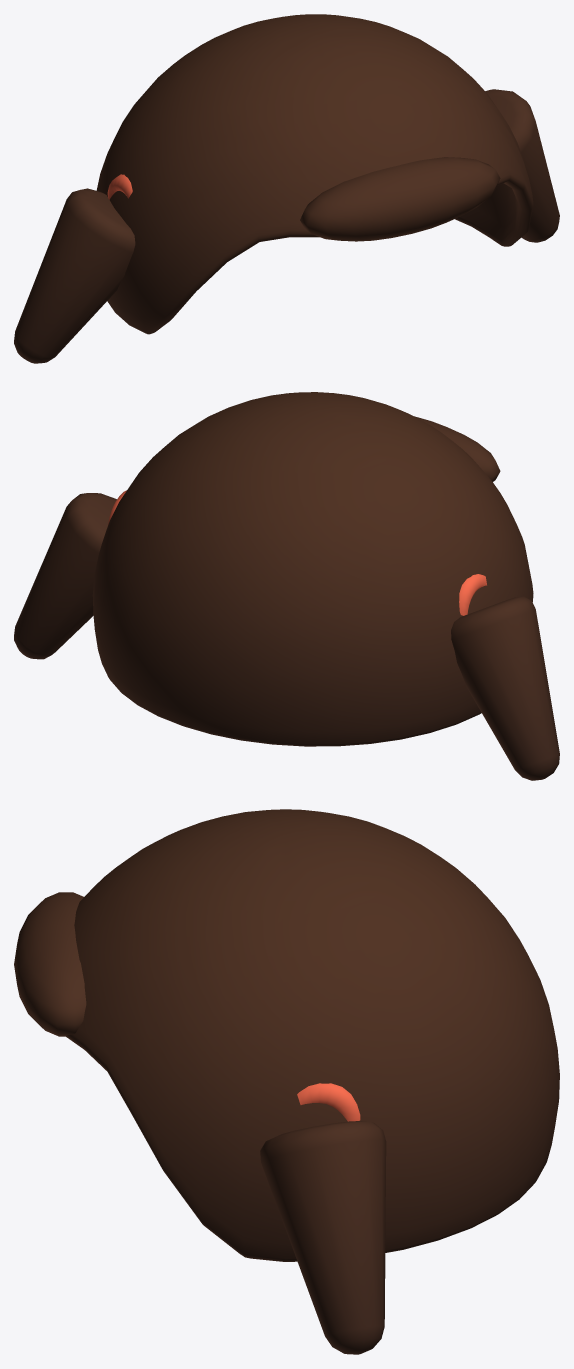
The model's file is hair_pigtails.glb.
The picture shows the model from 3 angles, top to bottom: view 1: azimuth 30°, elevation 25°; view 2: azimuth 150°, elevation 25°; view 3: azimuth 270°, elevation 25°; orthographic projection. The views are drawn at different scales.
Parts seen in each view (by area): view 1: Hair, HairTailR, HairTailL; view 2: Hair, HairTailR, HairTailL; view 3: Hair, HairTailL.
Part boxes in pixels (x1,y1,x2,y2): Hair: [96, 14, 533, 334]; HairTailR: [14, 188, 135, 363]; HairTailL: [485, 89, 559, 242]; Hair: [92, 392, 533, 746]; HairTailR: [451, 596, 559, 780]; HairTailL: [14, 493, 116, 659]; Hair: [14, 809, 559, 1261]; HairTailL: [260, 1121, 386, 1354].
Bounding box in the file's own units: 3.02 × 1.53 × 2.09.
